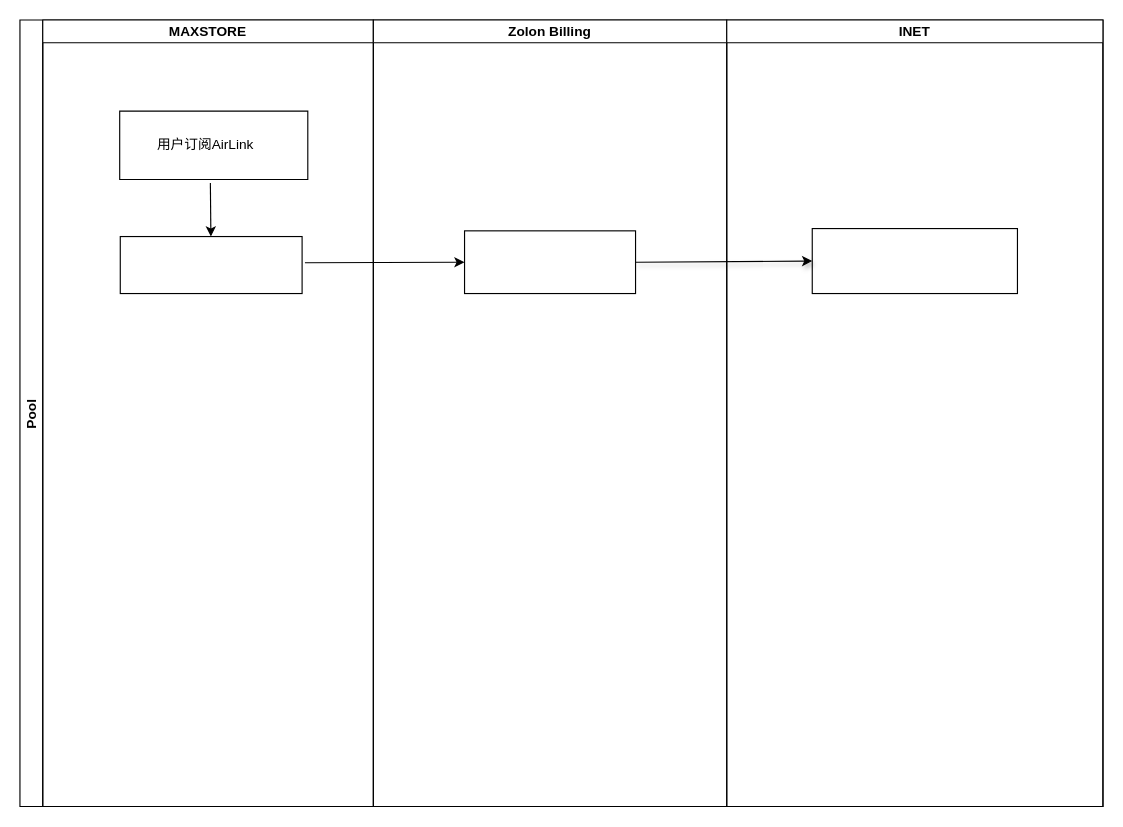
The diagram is 1123 pixels wide and 827 high, and some of its shapes have lost their labels. The centre of each missing label's shape, as x and y in pixels:
从INET同步用户充值的银行流水: point 914,260
用户点击充值AirLink: point 210,264
订单同步到Billing 并在Prepayment Approval展示: point 549,262
